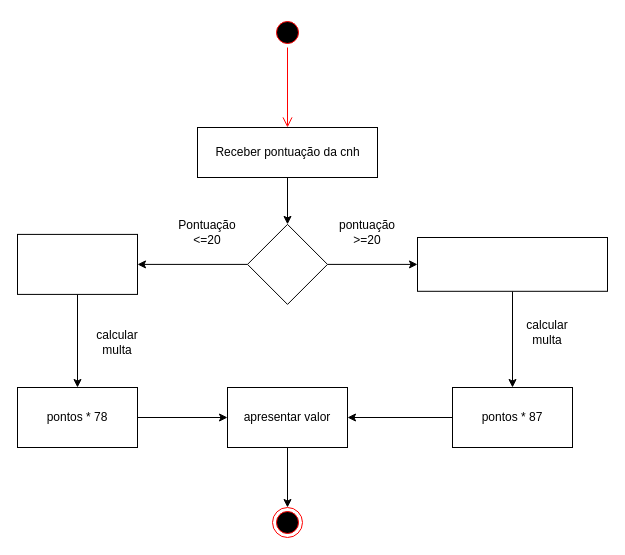
Some shapes in this 625 by 555 pixel diagram are drawn without their labels. The centre of each missing label's shape, as x and y in pixels:
Pode dirigir: (x=77, y=263)
Você esta com a CNH suspensa: (x=512, y=263)
